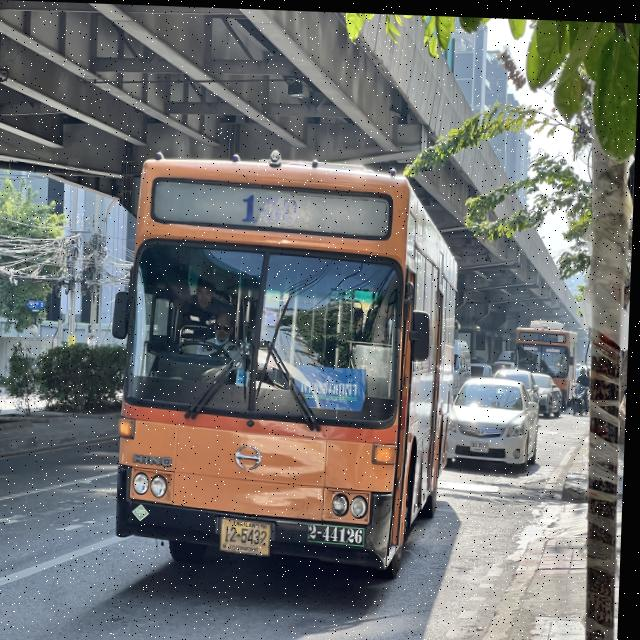BMTA-bus: (118, 155, 460, 574), (516, 315, 579, 411)
Bus Line Number: (240, 186, 304, 227), (540, 328, 562, 338)
Bus Side Number: (309, 519, 371, 546)
Destination Sign: (297, 364, 370, 408), (550, 361, 564, 370)
